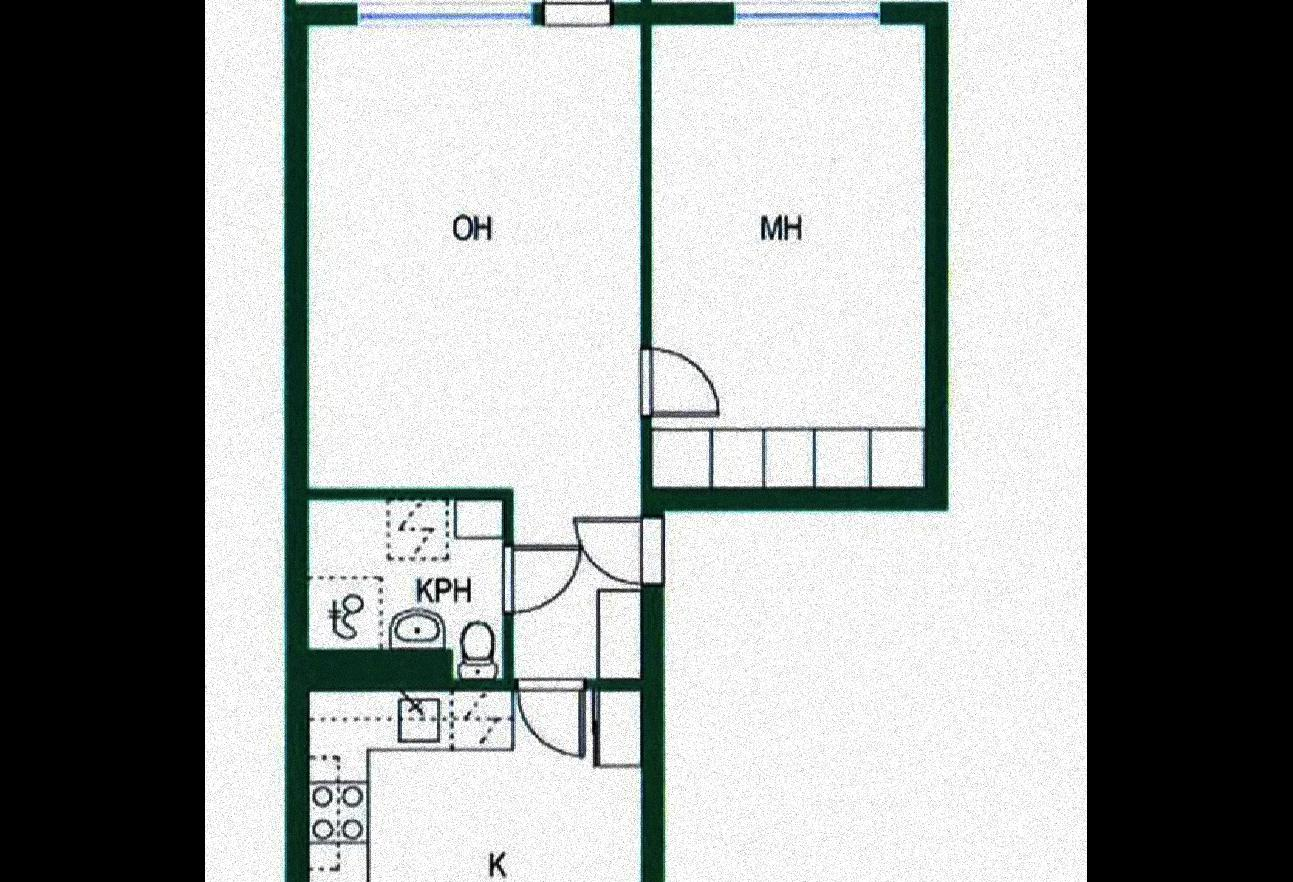door: (640, 346, 726, 420), (570, 514, 659, 584), (518, 676, 590, 760), (504, 538, 582, 614), (540, 0, 614, 29)
window: (732, 3, 882, 28), (358, 4, 536, 24)
zone: (304, 26, 642, 680), (652, 23, 927, 486), (310, 692, 639, 882), (306, 502, 506, 680)
